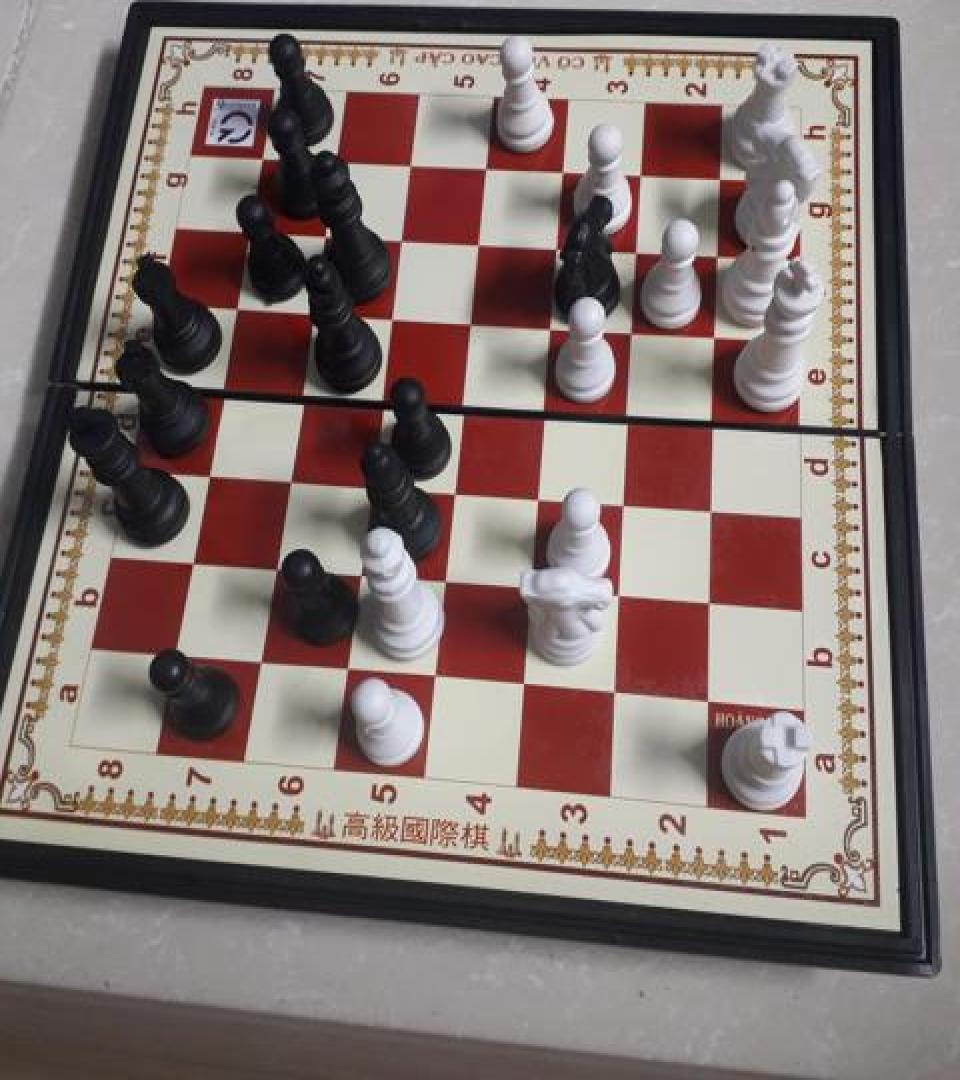xcorner: (628, 157, 658, 192), (154, 636, 184, 670), (416, 662, 446, 696), (507, 669, 537, 703), (600, 678, 630, 712), (694, 686, 724, 720), (172, 543, 202, 577), (255, 550, 285, 584), (340, 557, 370, 591), (515, 572, 545, 606), (605, 579, 635, 613), (697, 586, 727, 620), (188, 454, 218, 488), (270, 460, 300, 494), (353, 467, 383, 501), (437, 472, 467, 506), (523, 479, 553, 513), (610, 485, 640, 519), (699, 492, 729, 526), (204, 371, 234, 405), (283, 376, 313, 410), (364, 381, 394, 415), (446, 386, 476, 420), (530, 392, 560, 426), (615, 397, 645, 431), (219, 291, 249, 325), (296, 296, 326, 330), (375, 299, 405, 333), (455, 304, 485, 338), (537, 308, 567, 342), (620, 312, 650, 346), (704, 317, 734, 351), (233, 215, 263, 249), (309, 219, 339, 253), (386, 222, 416, 256), (464, 226, 494, 260), (543, 230, 573, 264), (624, 234, 654, 268), (706, 237, 736, 271), (246, 143, 276, 177), (320, 146, 350, 180), (395, 148, 425, 182), (472, 152, 502, 186), (549, 155, 579, 189), (708, 161, 738, 195), (240, 645, 270, 678), (327, 653, 357, 686), (427, 565, 457, 598), (702, 403, 732, 436)
